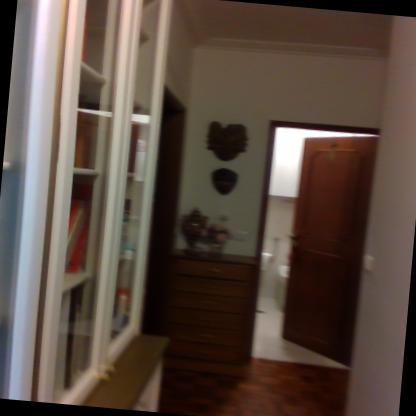semi: (240, 114, 389, 378)
